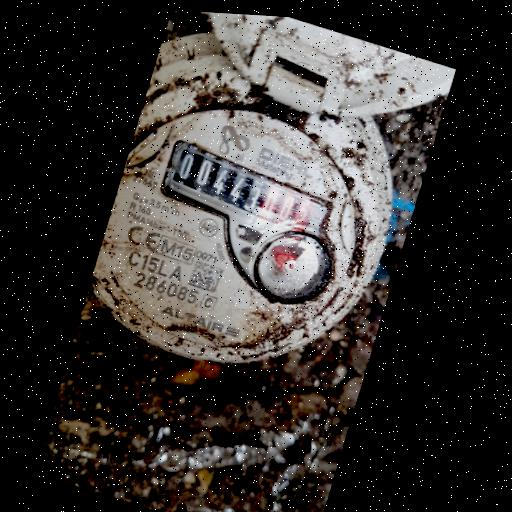0: (187, 153, 219, 196), (254, 182, 284, 223), (271, 188, 300, 229), (171, 147, 200, 187)
2: (285, 194, 315, 235)
3: (238, 175, 269, 216)
4: (221, 169, 252, 210), (206, 161, 236, 203)
border_water_meter_number: (155, 142, 338, 253)
